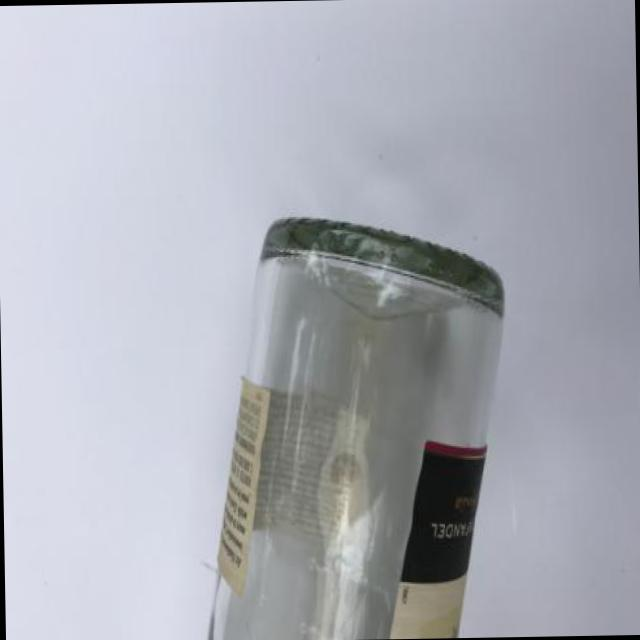chai_thuy_tinh: (209, 218, 501, 640)
